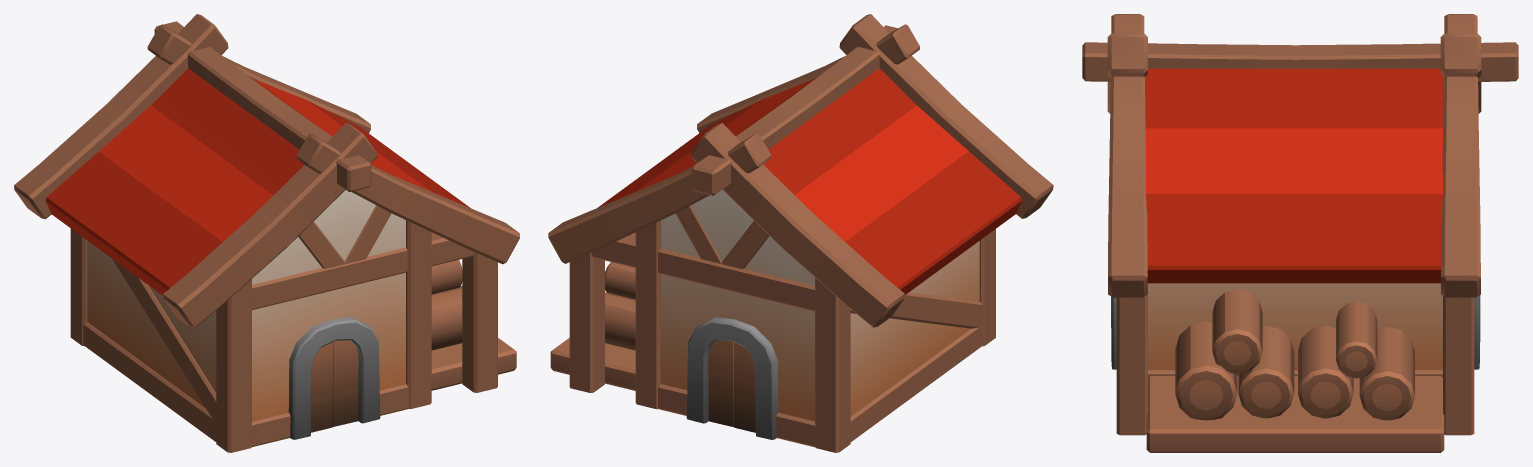
The model's file is WareHouse_1.fbx.
The picture shows the model from 3 angles, left to right: view 1: azimuth 30°, elevation 25°; view 2: azimuth 150°, elevation 25°; view 3: azimuth 270°, elevation 25°; orthographic projection. The views are drawn at different scales.
Parts seen in each view (by area): view 1: WareHouse_1; view 2: WareHouse_1; view 3: WareHouse_1.
Boxes of the visible parts, box(x1,y1,x2,y2) form: WareHouse_1: box(14, 14, 519, 452); WareHouse_1: box(548, 14, 1053, 452); WareHouse_1: box(1082, 14, 1518, 452).
Bounding box in the file's own units: 200 × 156 × 190.
